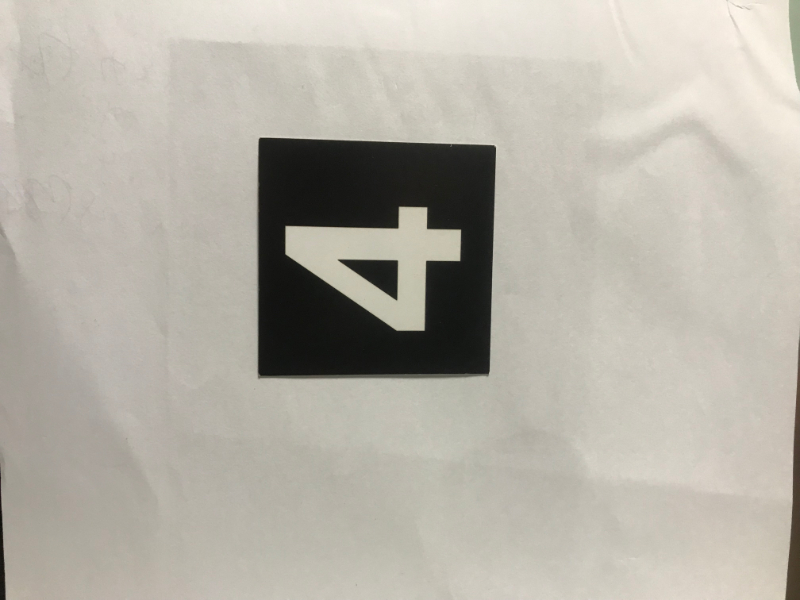Four-9: (265, 148, 486, 371)
